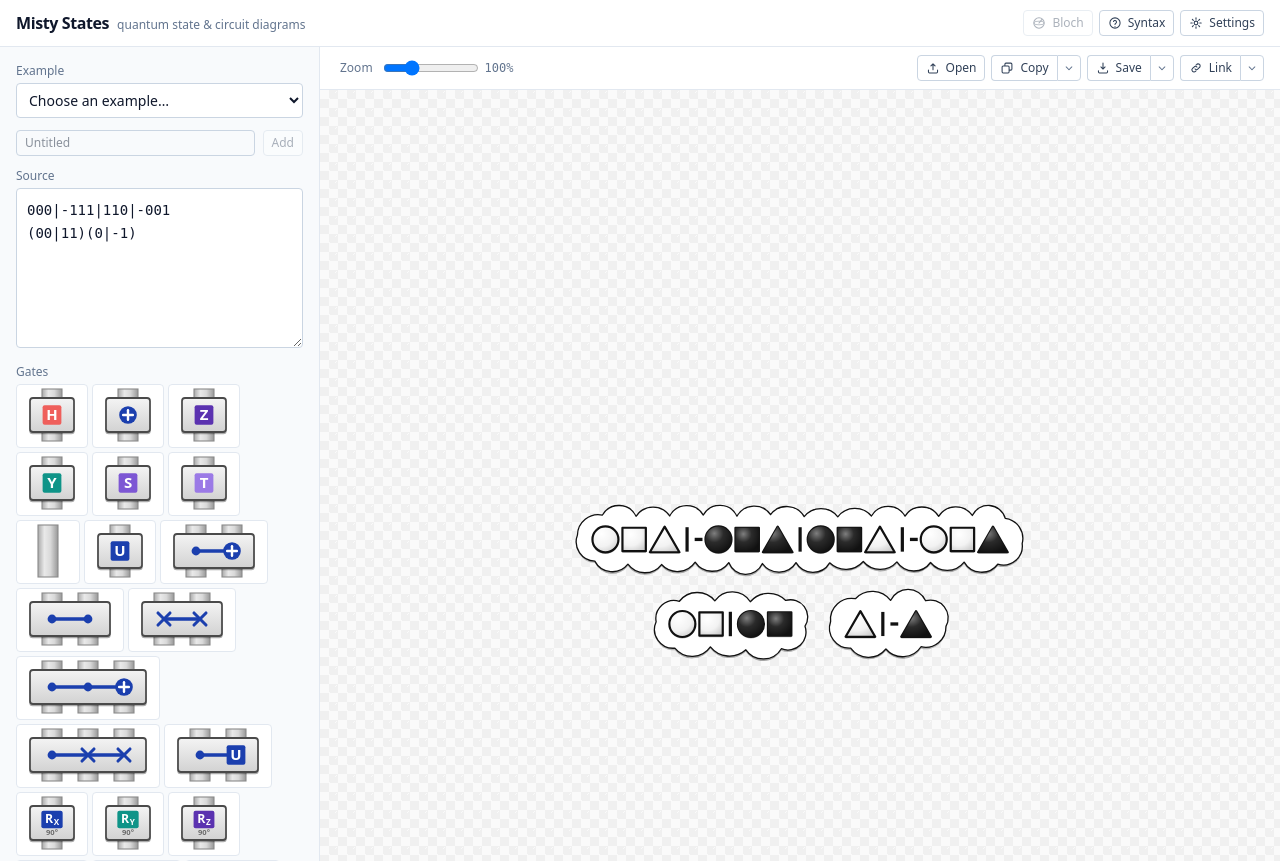
it: naming a diagram and saving it to the library › reveals the library picker, which was hidden while empty
Check: the number of dropdowns is 1, box [16,83,303,118]
Type "Bell pair" into the field named "Diagram name" at {"x": 135, "y": 143}, box [16,130,255,156]
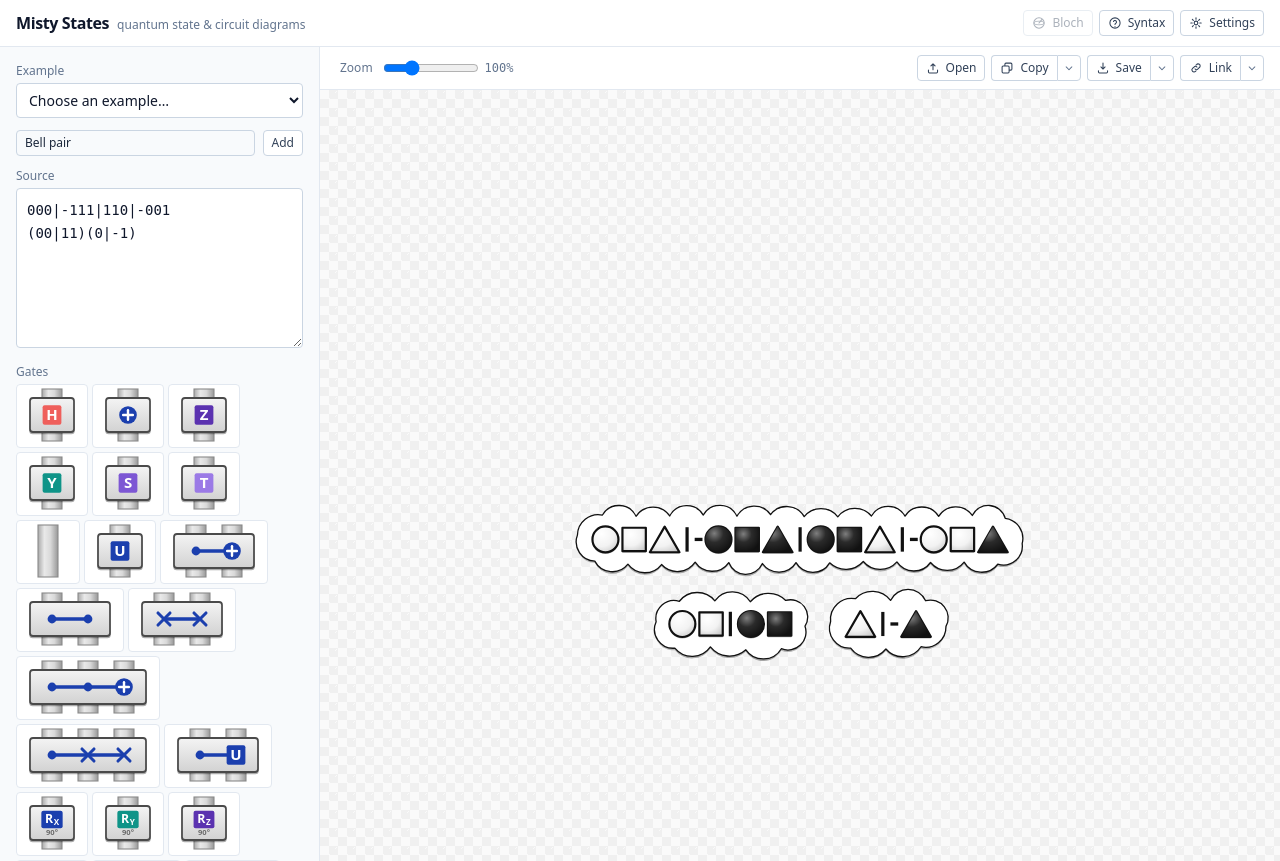
Click the button "Add" at {"x": 283, "y": 143}, box [263,130,303,156]
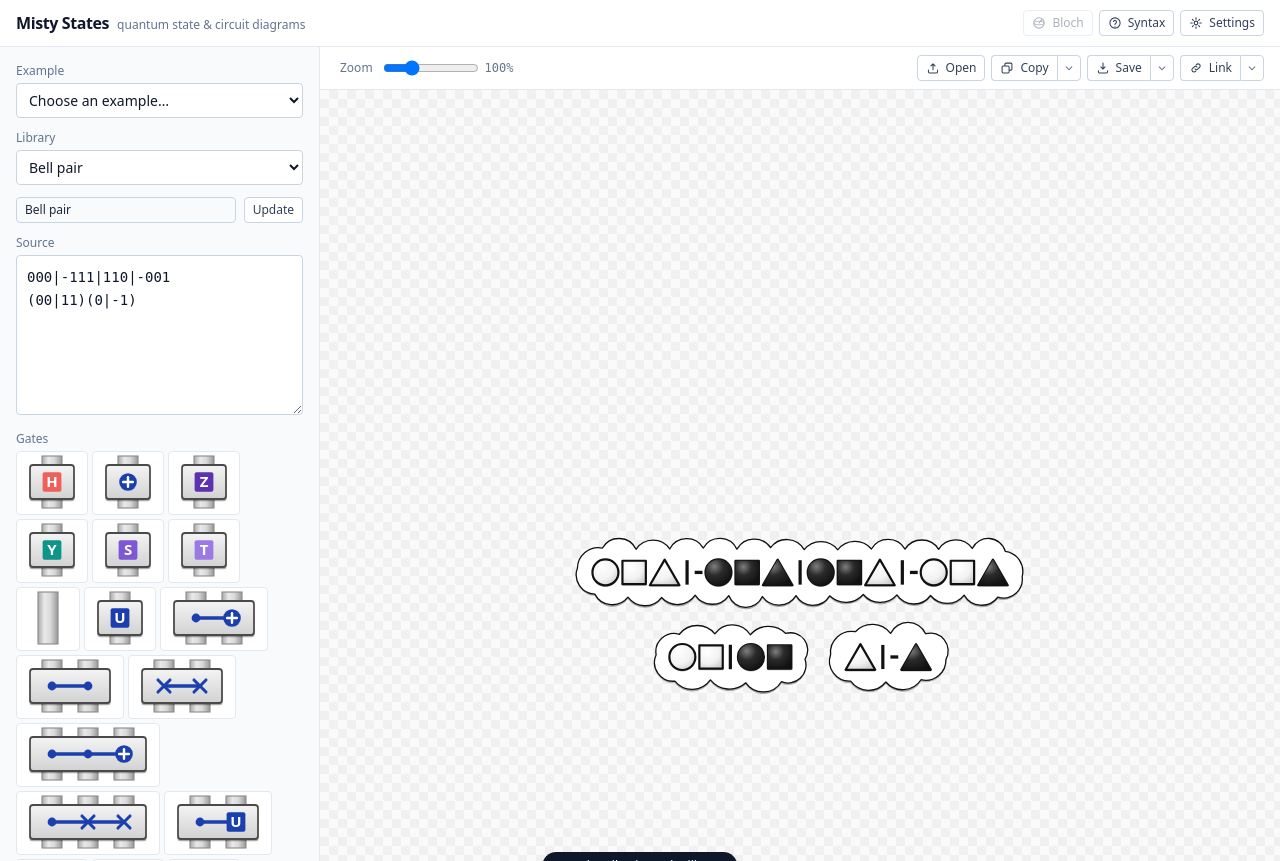
Check: the number of dropdowns is 2, box [16,83,303,118]; [16,150,303,185]
